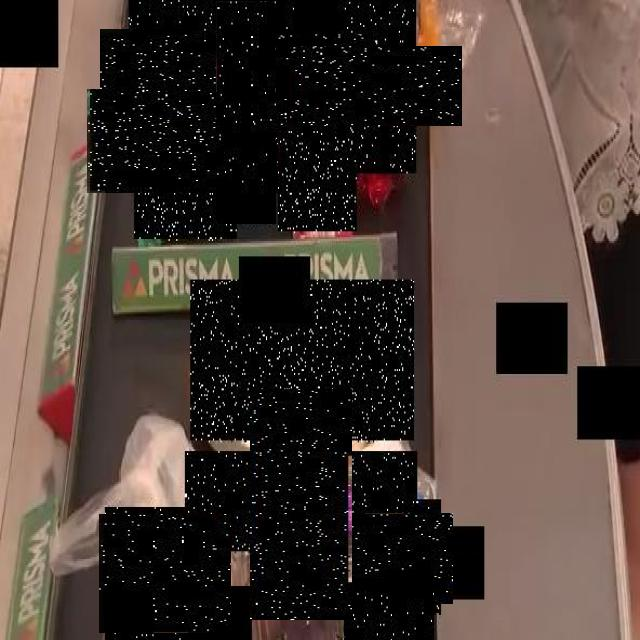beverage: (313, 23, 439, 150), (215, 0, 276, 224)
food-box: (217, 420, 385, 588), (111, 65, 263, 218), (114, 14, 236, 136), (344, 507, 447, 611), (259, 17, 358, 116), (344, 590, 434, 640)
utility-box: (190, 282, 414, 446), (278, 131, 357, 235)
vegetable: (101, 511, 228, 636)
